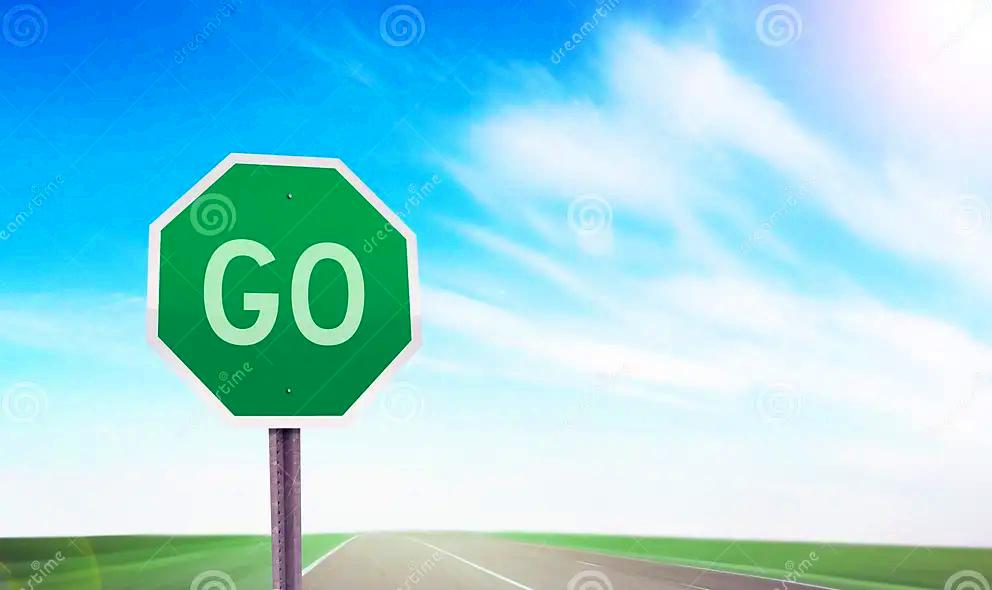Go: (160, 160, 406, 422)
